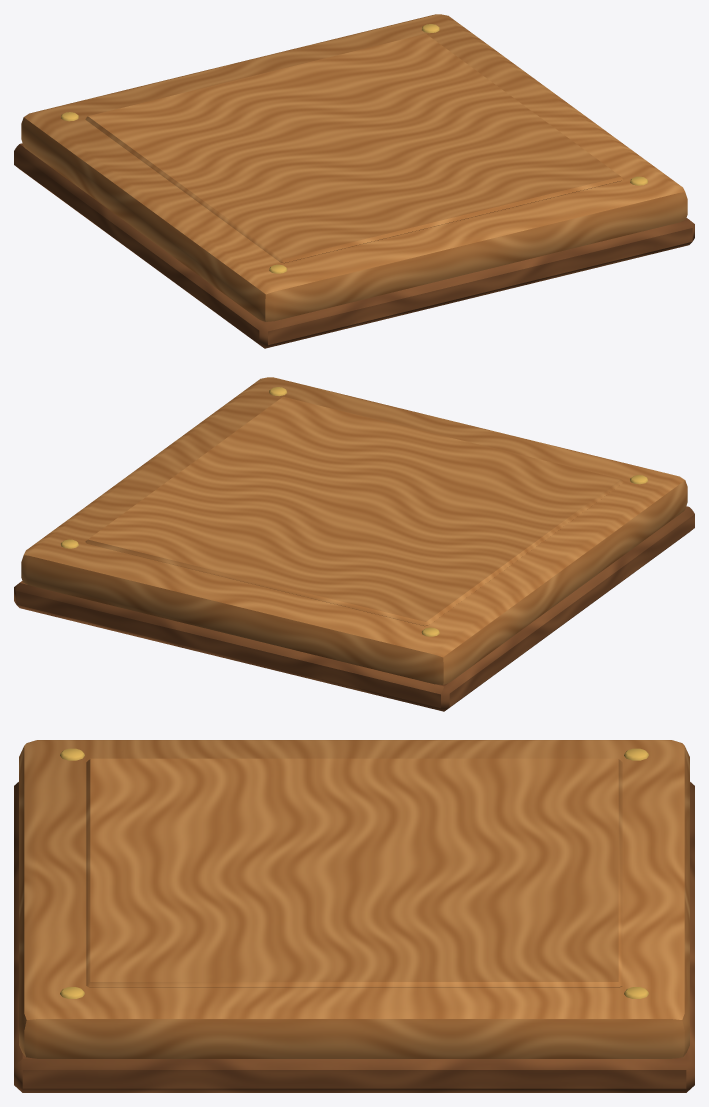
File: bord_plateau.glb
3 renders of one model, top to bottom at view 1: azimuth 30°, elevation 25°; view 2: azimuth 150°, elevation 25°; view 3: azimuth 270°, elevation 25°, orthographic. The views are drawn at different scales.
Parts seen in each view (by area): view 1: bord_plateau; view 2: bord_plateau; view 3: bord_plateau.
Part boxes in pixels (x1,y1,x2,y2): bord_plateau: (14, 14, 694, 348); bord_plateau: (14, 377, 694, 711); bord_plateau: (14, 740, 694, 1092).
Bounding box in the file's own units: 1.98 × 0.264 × 1.98.
3 materials, 2 textured.
